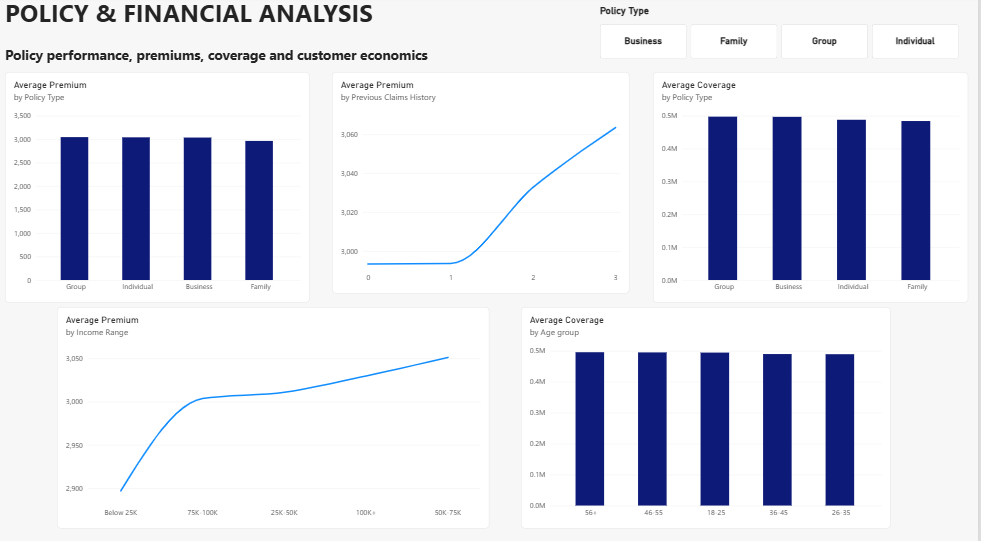

What the dashboard file says about the page in this screenshot:
{"tool":"powerbi","page":{"name":"Page 3","canvas":[1920,1080],"ordinal":2},"visuals":[{"type":"textbox","box":[9.3,0,974.4,76.7],"z":0},{"type":"textbox","box":[9.3,95.3,974.4,53.5],"z":1000},{"type":"clusteredColumnChart","fields":{"Category":["Sheet1.Policy Type"],"Y":["Sheet1.Average Premium"]},"box":[9.3,148.8,597.7,453.5],"z":2000},{"type":"clusteredColumnChart","fields":{"Category":["Sheet1.Policy Type"],"Y":["Sheet1.Average Coverage"]},"box":[1281.4,148.8,618.6,453.5],"z":3000},{"type":"lineChart","fields":{"Category":["Sheet1.Previous Claims History"],"Y":["Sheet1.Average Premium"]},"box":[651.2,148.8,583.7,434.9],"z":4000},{"type":"lineChart","fields":{"Category":["Sheet1.Income Range"],"Y":["Sheet1.Average Premium"]},"box":[111.6,611.6,848.8,434.9],"z":6000},{"type":"clusteredColumnChart","fields":{"Category":["Sheet1.Age group"],"Y":["Sheet1.Average Coverage"]},"box":[1023.3,611.6,725.6,434.9],"z":6001},{"type":"advancedSlicerVisual","fields":{"Values":["Sheet1.Policy Type"]},"box":[1177.2,17.3,706.3,105.8],"z":6002}]}

Visuals, with their boxes in screenshot pixels (x1, y1, x2, y2), scaled from the page's 1920x1080 canvas onto the 981x541 screenshot:
textbox: bbox(5, 0, 503, 38)
textbox: bbox(5, 48, 503, 75)
clusteredColumnChart - Sheet1.Policy Type x Sheet1.Average Premium: bbox(5, 75, 310, 302)
clusteredColumnChart - Sheet1.Policy Type x Sheet1.Average Coverage: bbox(655, 75, 971, 302)
lineChart - Sheet1.Previous Claims History x Sheet1.Average Premium: bbox(333, 75, 631, 292)
lineChart - Sheet1.Income Range x Sheet1.Average Premium: bbox(57, 306, 491, 524)
clusteredColumnChart - Sheet1.Age group x Sheet1.Average Coverage: bbox(523, 306, 894, 524)
advancedSlicerVisual - Sheet1.Policy Type: bbox(601, 9, 962, 62)
